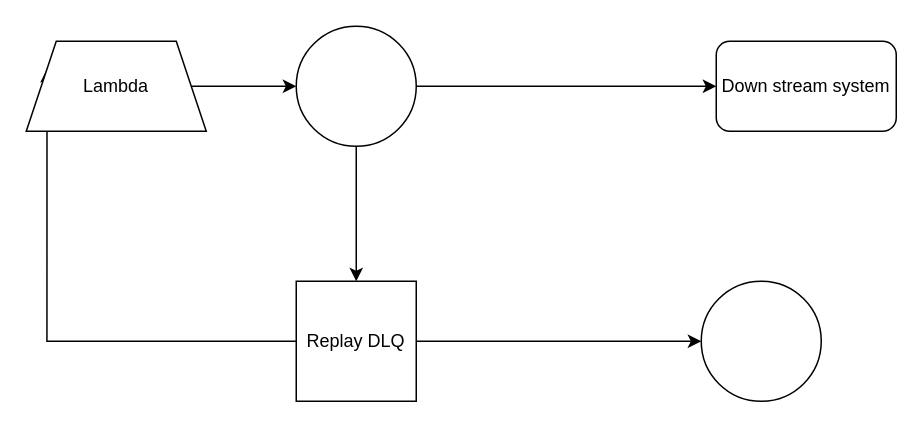
Image size: 923x428. Some labels were removed from this diagram. The shapes that lost their labels are listed below. From the top down, each one's centre as x and y in pixels, then its label:
pixel 355 85: SQS
pixel 760 340: 2nd DLQ
